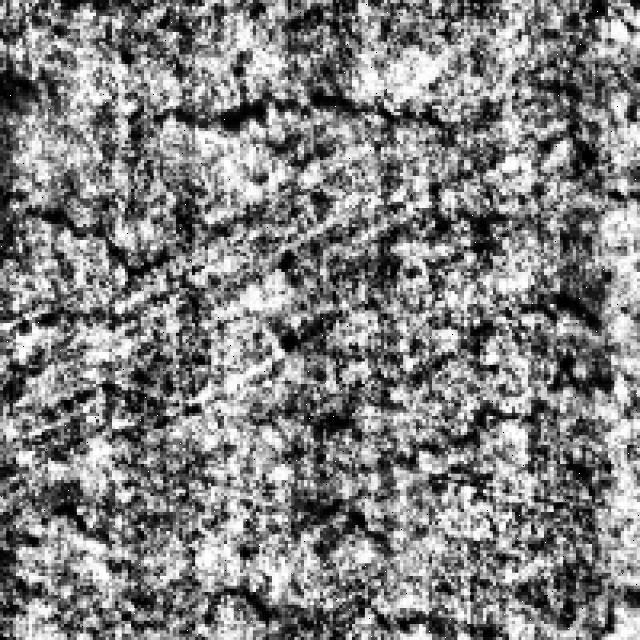Pitted_Surface: (282, 278, 620, 557), (3, 172, 221, 422)
